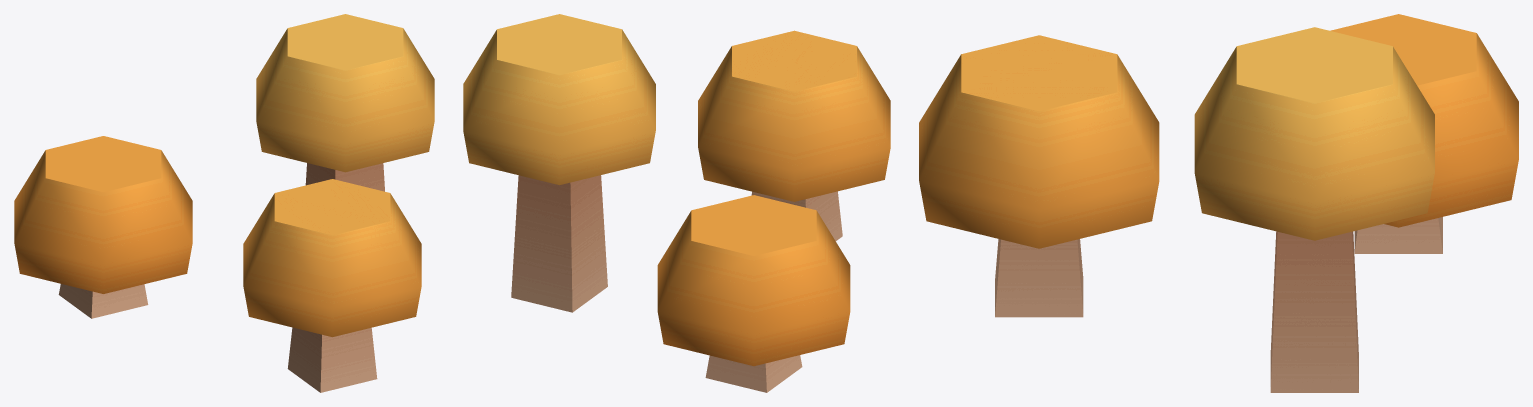
Rendered from cogumelo amarelo.glb.
The picture shows the model from 3 angles, left to right: view 1: azimuth 30°, elevation 25°; view 2: azimuth 150°, elevation 25°; view 3: azimuth 270°, elevation 25°; orthographic projection. The views are drawn at different scales.
Parts seen in each view (by area): view 1: mushrooms; view 2: mushrooms; view 3: mushrooms.
Part boxes in pixels (<box>): mushrooms: <box>14,14,434,392</box>; mushrooms: <box>463,14,890,392</box>; mushrooms: <box>919,14,1518,392</box>.
Bounding box in the file's own units: 0.5242 × 0.295 × 0.5188.
1 material, 1 textured.
